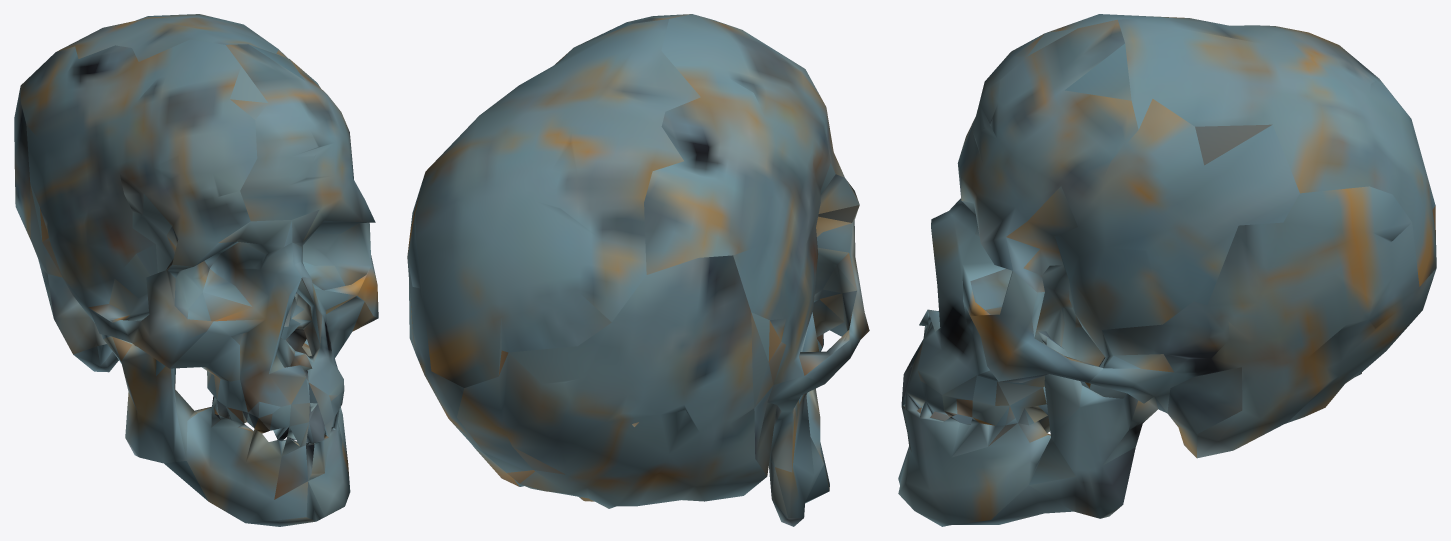
File: skull.fbx
3 views of the same model, side by side, from view 1: azimuth 30°, elevation 25°; view 2: azimuth 150°, elevation 25°; view 3: azimuth 270°, elevation 25° (orthographic). The views are drawn at different scales.
Visible parts, largest first — view 1: Mesh_0; view 2: Mesh_0; view 3: Mesh_0.
Part boxes in pixels (x1=…): Mesh_0: x1=14, y1=14, x2=378, y2=526; Mesh_0: x1=407, y1=14, x2=869, y2=526; Mesh_0: x1=898, y1=14, x2=1436, y2=526.
Size of the model in its own units: 134 by 198 by 201.
